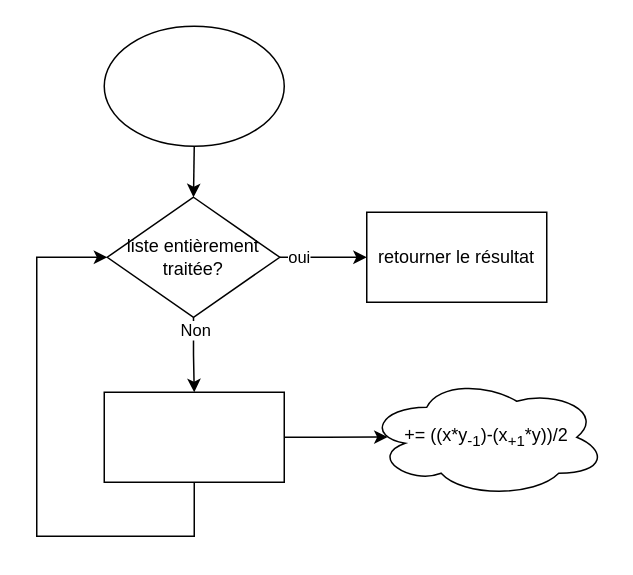
Some shapes in this 633 by 575 pixel diagram are drawn without their labels. The shapes that lost their labels are listed below. From the top down, each one's centre as x and y in pixels, then its label:
At (x=193, y=85): "début".
At (x=193, y=436): "ajouter le calcul sur le point suivant au résultat".
